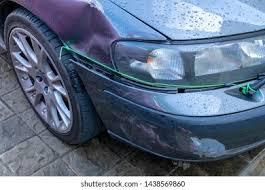fender-dent: (27, 0, 113, 109)
front-bumper-dent: (81, 80, 257, 165)
